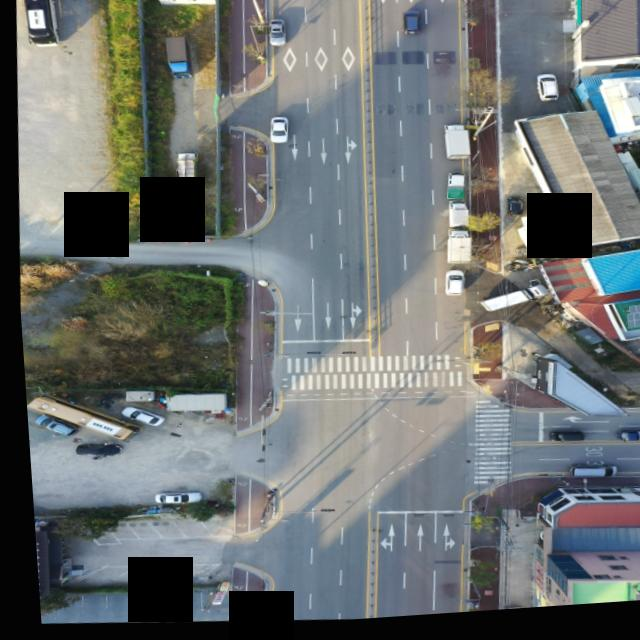car: (28, 413, 75, 438), (563, 469, 614, 489), (114, 405, 157, 428), (68, 441, 118, 459), (533, 80, 560, 110), (147, 493, 192, 507), (439, 276, 461, 304), (266, 120, 286, 146), (266, 24, 285, 50), (502, 201, 524, 223), (400, 17, 420, 41), (546, 437, 579, 450)
large_bus: (22, 388, 134, 447), (19, 0, 65, 49)
medium_truck: (474, 291, 543, 323), (157, 36, 195, 83), (438, 128, 471, 169), (439, 232, 471, 273)
small_truck: (170, 154, 199, 189), (443, 205, 469, 234), (443, 176, 469, 204), (606, 434, 640, 454)
